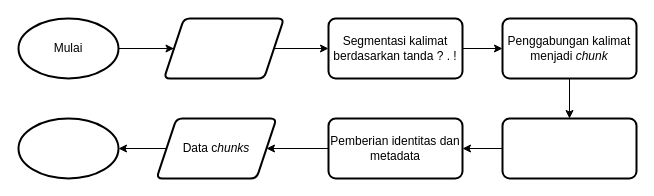
This 654x196 diagram has some shape labels left out. The centre of each missing label's shape, as x and y in pixels:
Dataset bersih: (x=223, y=48)
Penerapan Overlap 1 kalimat: (x=569, y=148)
Selesai: (x=68, y=148)
